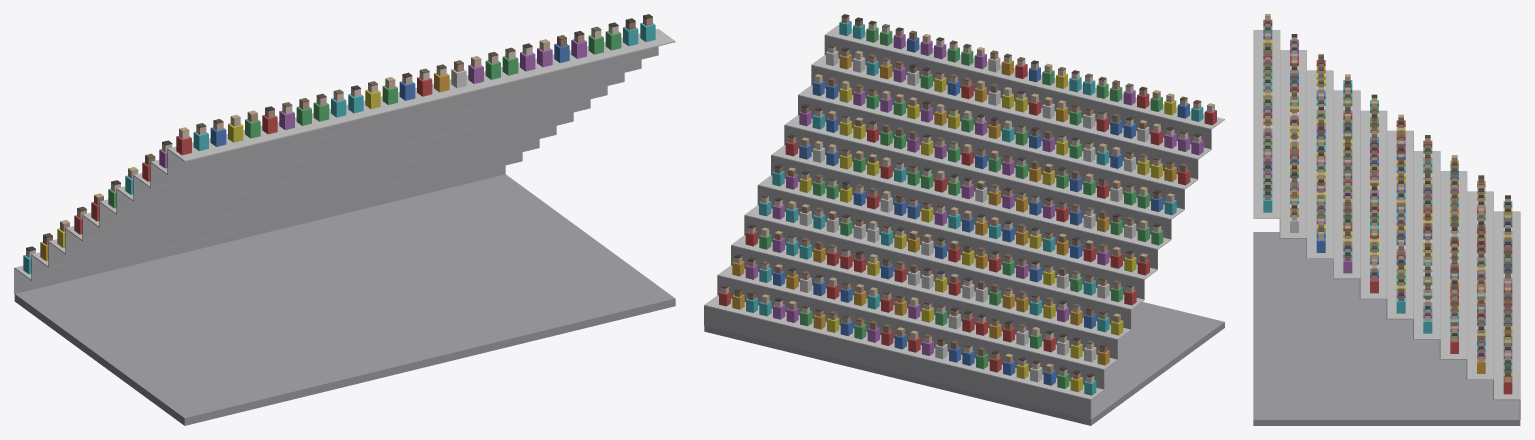
The model's file is grandstand_lowpoly.glb.
The picture shows the model from 3 angles, left to right: view 1: azimuth 30°, elevation 25°; view 2: azimuth 150°, elevation 25°; view 3: azimuth 270°, elevation 25°; orthographic projection. The views are drawn at different scales.
Visible parts, largest first — view 1: geometry_0; view 2: geometry_0; view 3: geometry_0.
Boxes of the visible parts, x1,y1,x2,y2 form: geometry_0: (14, 14, 675, 425); geometry_0: (704, 14, 1224, 425); geometry_0: (1253, 14, 1520, 425).
Bounding box in the file's own units: 20 × 11.21 × 12.02.
